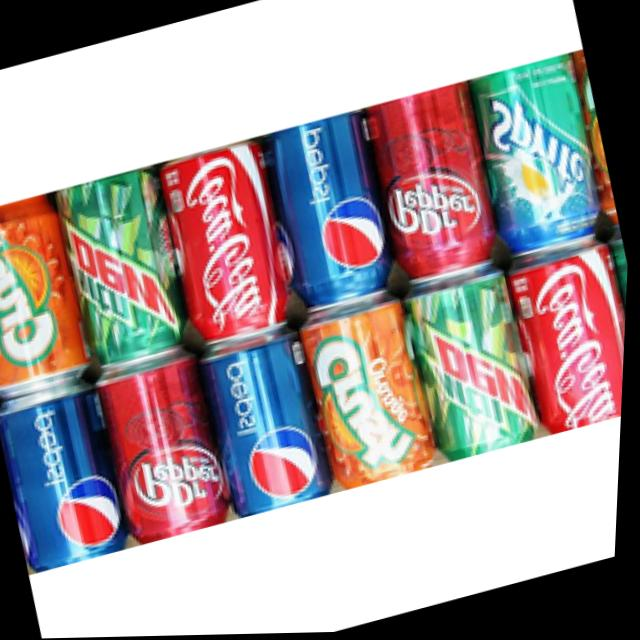aluminum_soda_cans: (460, 51, 620, 267), (253, 110, 414, 321), (156, 137, 313, 348), (91, 343, 251, 547), (360, 80, 513, 288), (53, 163, 202, 373), (406, 269, 556, 470), (303, 295, 450, 495), (0, 378, 136, 572), (206, 327, 343, 519), (507, 247, 631, 441), (0, 186, 96, 402)
